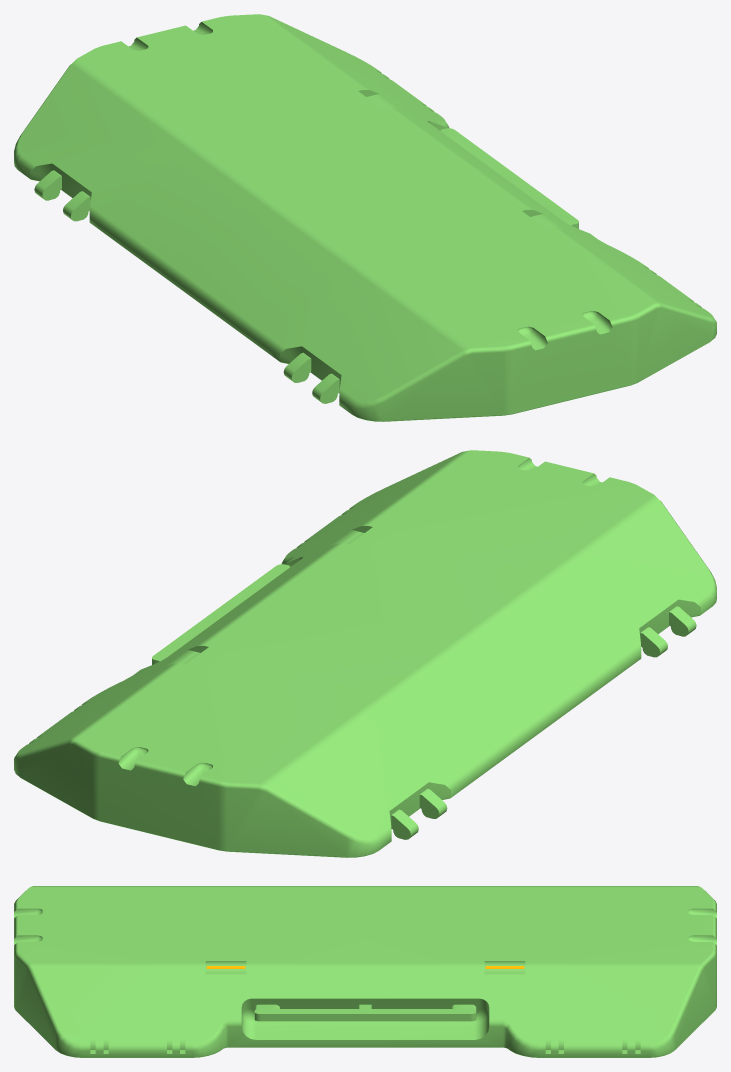
3 views of the same model, one above another, from view 1: azimuth 30°, elevation 25°; view 2: azimuth 150°, elevation 25°; view 3: azimuth 270°, elevation 25° (orthographic). The views are drawn at different scales.
Parts seen in each view (by area): view 1: Box03_02; view 2: Box03_02; view 3: Box03_02.
Part boxes in pixels (bbox=[...]): Box03_02: bbox=[14, 14, 716, 421]; Box03_02: bbox=[14, 450, 716, 857]; Box03_02: bbox=[14, 886, 716, 1057].
Bounding box in the file's own units: 68.9 × 13.21 × 134.
